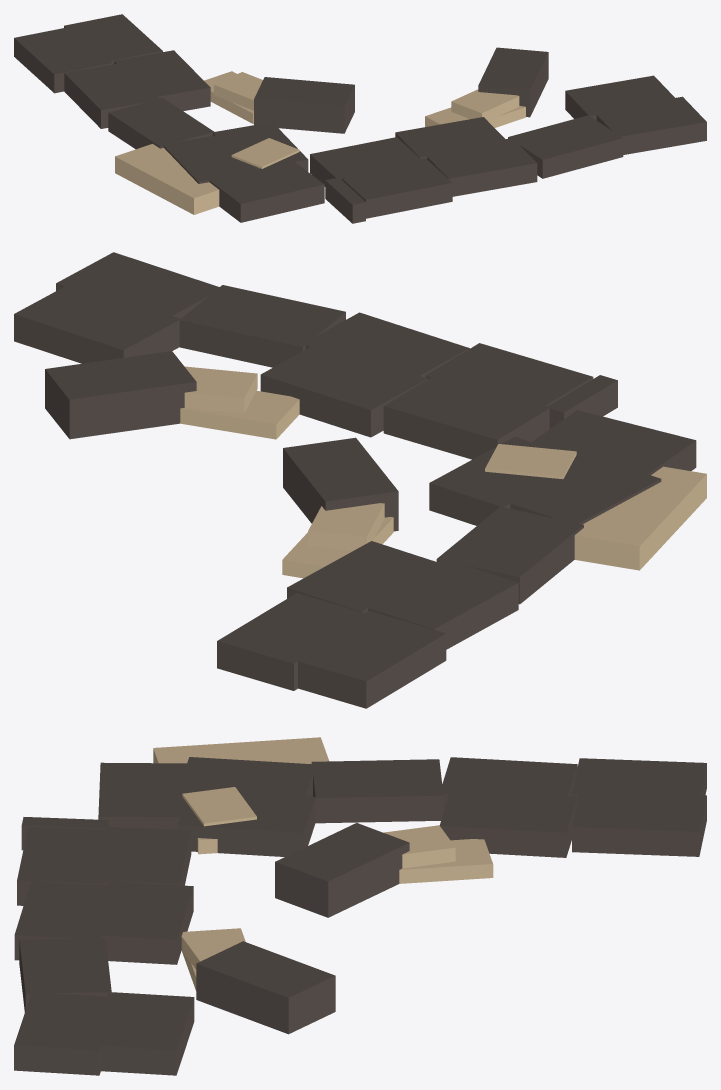
File: SM_PretilEsquina_v2_Irregular_e3_Brecha_LOD1.fbx
3 renders of one model, top to bottom at view 1: azimuth 30°, elevation 25°; view 2: azimuth 150°, elevation 25°; view 3: azimuth 270°, elevation 25°, orthographic. The views are drawn at different scales.
Parts seen in each view (by area): view 1: SM_pretil_azotea_v31_LOD1; view 2: SM_pretil_azotea_v31_LOD1; view 3: SM_pretil_azotea_v31_LOD1.
Part boxes in pixels (x1,y1,x2,y2): SM_pretil_azotea_v31_LOD1: (14,14,706,223); SM_pretil_azotea_v31_LOD1: (14,252,706,708); SM_pretil_azotea_v31_LOD1: (14,737,706,1075).
Size of the model in its own units: 4.85 by 0.26 by 4.5.
